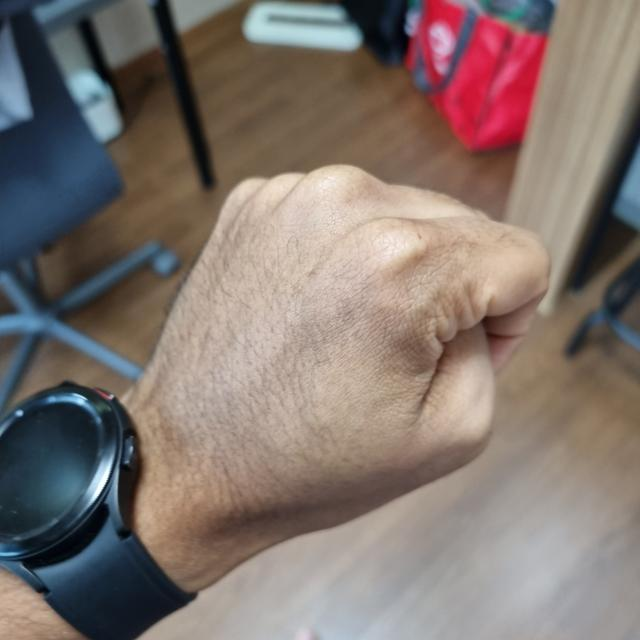Rock: (120, 161, 545, 588)
